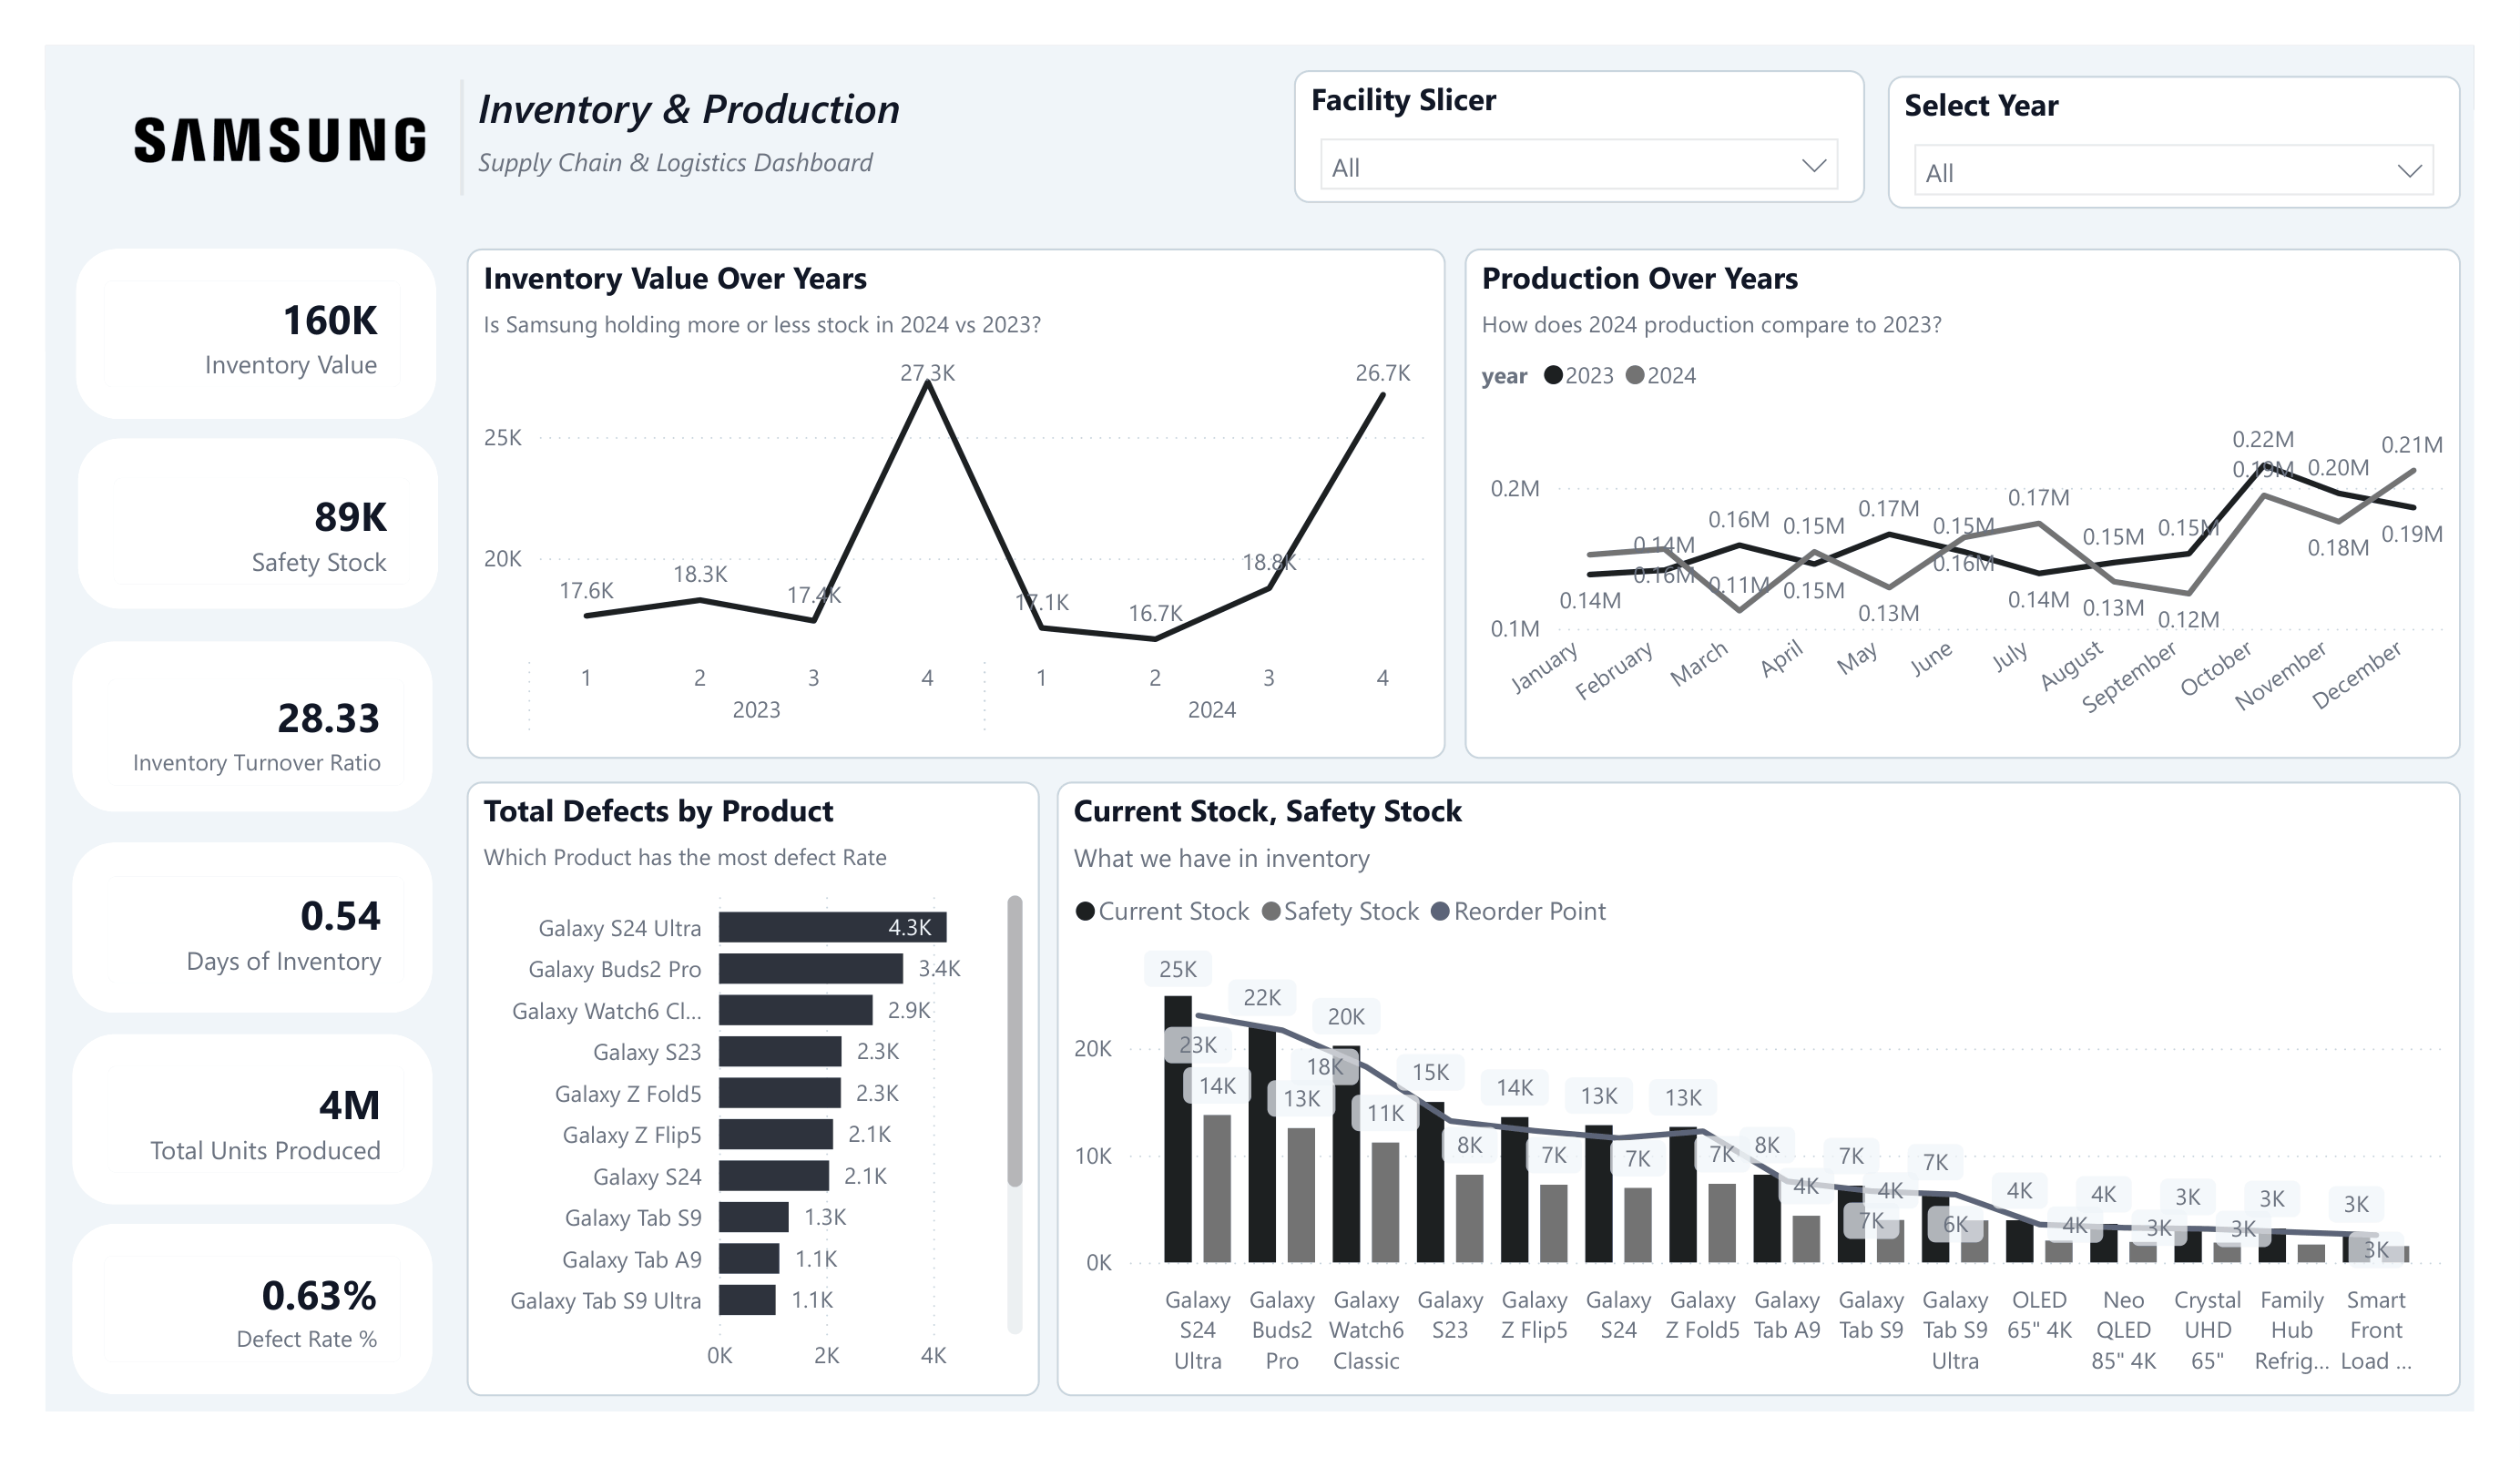

Layout of this report page (visuals, bound fields, positions):
{"tool":"powerbi","page":{"name":"Inventory & Production","canvas":[1280,720],"ordinal":3},"visuals":[{"type":"shape","box":[14.3,621.4,190,90],"z":0},{"type":"shape","box":[14.3,521.4,190,90],"z":1000},{"type":"shape","box":[14.3,420,190,90],"z":2000},{"type":"shape","box":[14.3,314.3,190,90],"z":3000},{"type":"shape","box":[17.1,207.1,190,90],"z":4000},{"type":"shape","box":[15.7,107.1,190,90],"z":5000},{"type":"shape","title":"Inventory & Production","box":[228,18.1,319.7,61.5],"z":6000},{"type":"shape","box":[166.3,18.3,106.4,61.1],"z":7000},{"type":"image","box":[35.5,13.5,170,72.1],"z":8000},{"type":"cardVisual","fields":{"Data":["MeasuresTable.Safety_Stock"]},"box":[18.6,211.4,190,90],"z":9000},{"type":"cardVisual","fields":{"Data":["MeasuresTable.Trunover Rate"]},"box":[15.7,317.1,190,90],"z":10000},{"type":"cardVisual","fields":{"Data":["MeasuresTable.Total Units Produced"]},"box":[15.7,521.4,190,90],"z":11000},{"type":"cardVisual","fields":{"Data":["MeasuresTable.Days of Inventory"]},"box":[15.7,421.4,190,90],"z":12000},{"type":"cardVisual","fields":{"Data":["MeasuresTable.Defect Rate %"]},"box":[14.3,621.4,190,90],"z":13000},{"type":"barChart","title":"Total Defects by Product","fields":{"Category":["dim_product.product_name"],"Y":["MeasuresTable.Defect_Rate"]},"box":[222,388.5,301.6,323.3],"z":14000},{"type":"cardVisual","fields":{"Data":["MeasuresTable.Inventory_Value"]},"box":[14.3,107.1,190,90],"z":15000},{"type":"lineClusteredColumnComboChart","title":"Current Stock, Safety Stock","fields":{"Category":["dim_product.product_name"],"Y":["MeasuresTable.Inventory_Value","MeasuresTable.Safety_Stock"],"Y2":["MeasuresTable.Reorder Point"]},"box":[533.2,388.5,739.5,323.3],"z":16000},{"type":"lineChart","title":"Inventory Value Over Years","fields":{"Y":["MeasuresTable.Inventory_Value"],"Category":["dim_date.year","dim_date.quarter"]},"box":[222,107.4,516.4,269],"z":17000},{"type":"lineChart","title":"Production Over Years","fields":{"Y":["Sum(fact_production.quantity_produced)"],"Series":["dim_date.year"],"Category":["dim_date.date.Variation.Date Hierarchy.Month"]},"box":[748,107.4,524.8,269],"z":18000},{"type":"slicer","title":"Select Year","fields":{"Values":["dim_date.date.Variation.Date Hierarchy.Year","dim_date.date.Variation.Date Hierarchy.Quarter","dim_date.date.Variation.Date Hierarchy.Month","dim_date.date.Variation.Date Hierarchy.Day"]},"box":[971.2,15.7,301.6,70],"z":19000},{"type":"slicer","title":"Facility Slicer","fields":{"Values":["dim_facility.facility_name"]},"box":[657.5,13.3,301.6,70],"z":20000}]}

Visuals, with their boxes on the page's 1280x720 design canvas (x1, y1, x2, y2). These are canvas units, not pixel positions in the 2520x1457 screenshot, which may show the page scaled, cropped or inside an application window:
shape: box(14, 621, 204, 711)
shape: box(14, 521, 204, 611)
shape: box(14, 420, 204, 510)
shape: box(14, 314, 204, 404)
shape: box(17, 207, 207, 297)
shape: box(16, 107, 206, 197)
"Inventory & Production" shape: box(228, 18, 548, 80)
shape: box(166, 18, 273, 79)
image: box(36, 14, 206, 86)
cardVisual - MeasuresTable.Safety_Stock: box(19, 211, 209, 301)
cardVisual - MeasuresTable.Trunover Rate: box(16, 317, 206, 407)
cardVisual - MeasuresTable.Total Units Produced: box(16, 521, 206, 611)
cardVisual - MeasuresTable.Days of Inventory: box(16, 421, 206, 511)
cardVisual - MeasuresTable.Defect Rate %: box(14, 621, 204, 711)
"Total Defects by Product" barChart: box(222, 388, 524, 712)
cardVisual - MeasuresTable.Inventory_Value: box(14, 107, 204, 197)
"Current Stock, Safety Stock" lineClusteredColumnComboChart: box(533, 388, 1273, 712)
"Inventory Value Over Years" lineChart: box(222, 107, 738, 376)
"Production Over Years" lineChart: box(748, 107, 1273, 376)
"Select Year" slicer: box(971, 16, 1273, 86)
"Facility Slicer" slicer: box(658, 13, 959, 83)
